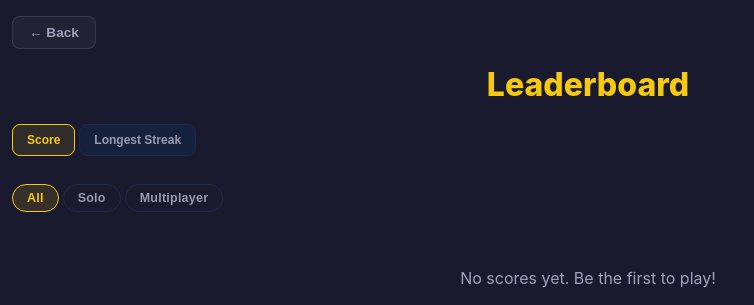
LeaderboardPage › game-type chips are not rendered on the Streak tab
The width and height of the screenshot is (754, 305).
Click the tab "Longest Streak" at (138, 140), box [79,124,196,156]
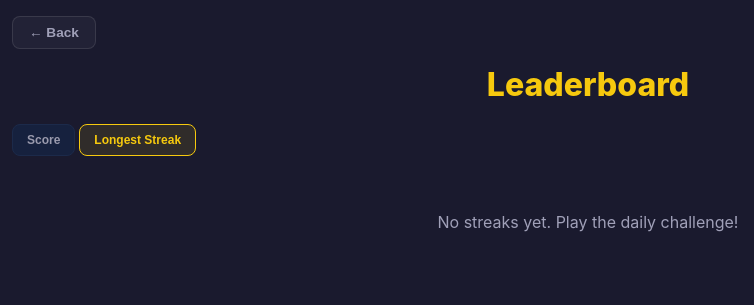
Check: the tab "Solo" is gone
Check: the tab "Multiplayer" is gone
